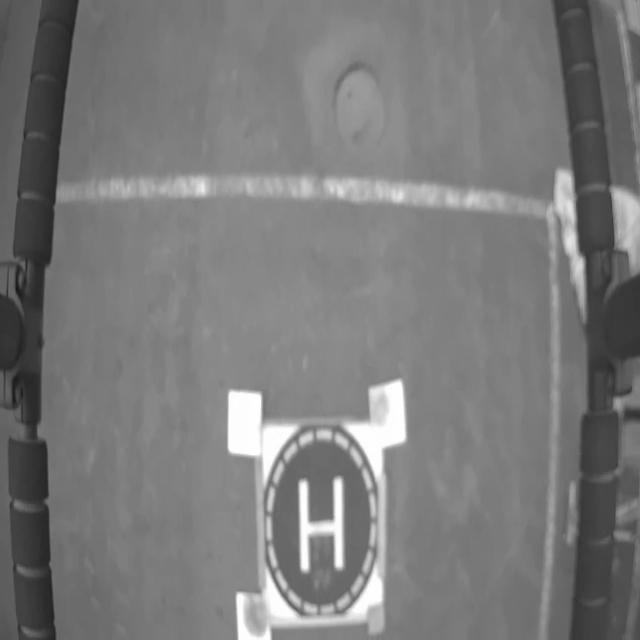Helipad: (298, 475, 344, 575)
